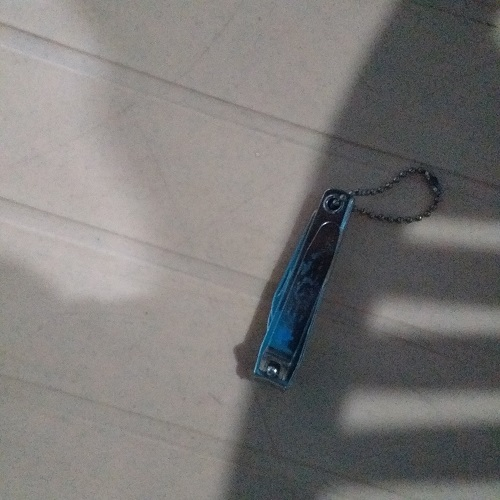nailcutter: (240, 151, 461, 396)
